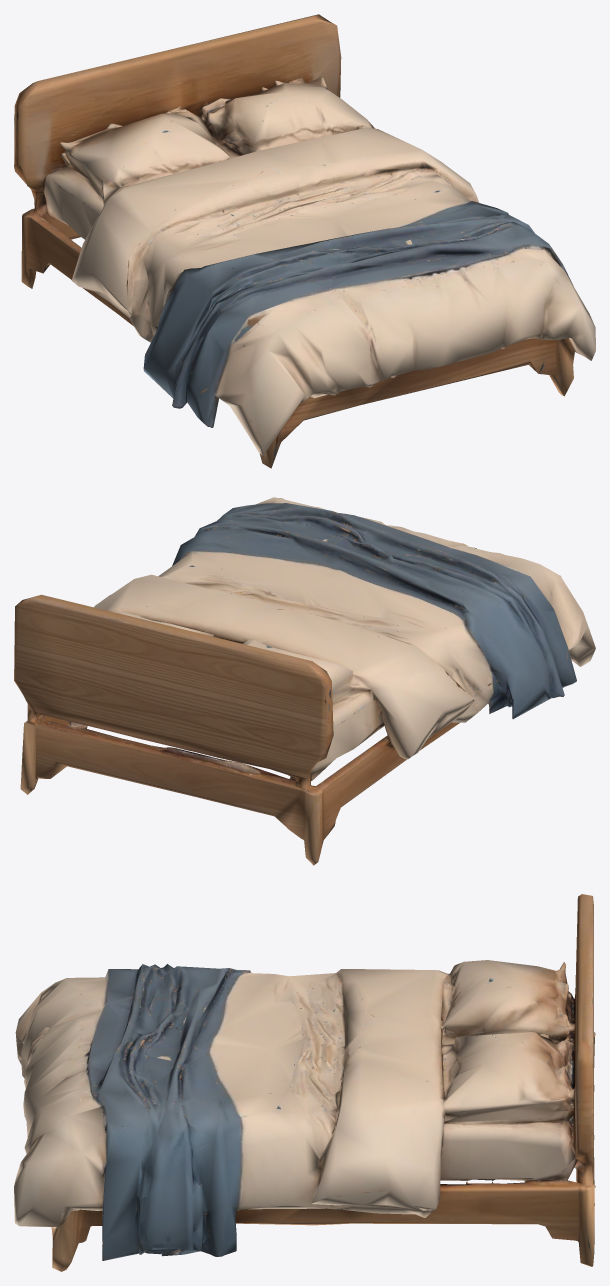
The model's file is bed.glb.
The picture shows the model from 3 angles, top to bottom: view 1: azimuth 30°, elevation 25°; view 2: azimuth 150°, elevation 25°; view 3: azimuth 270°, elevation 25°; orthographic projection. The views are drawn at different scales.
Size of the model in its own units: 1.74 by 0.8513 by 1.99.
Materials: 1 (1 with a texture image).
